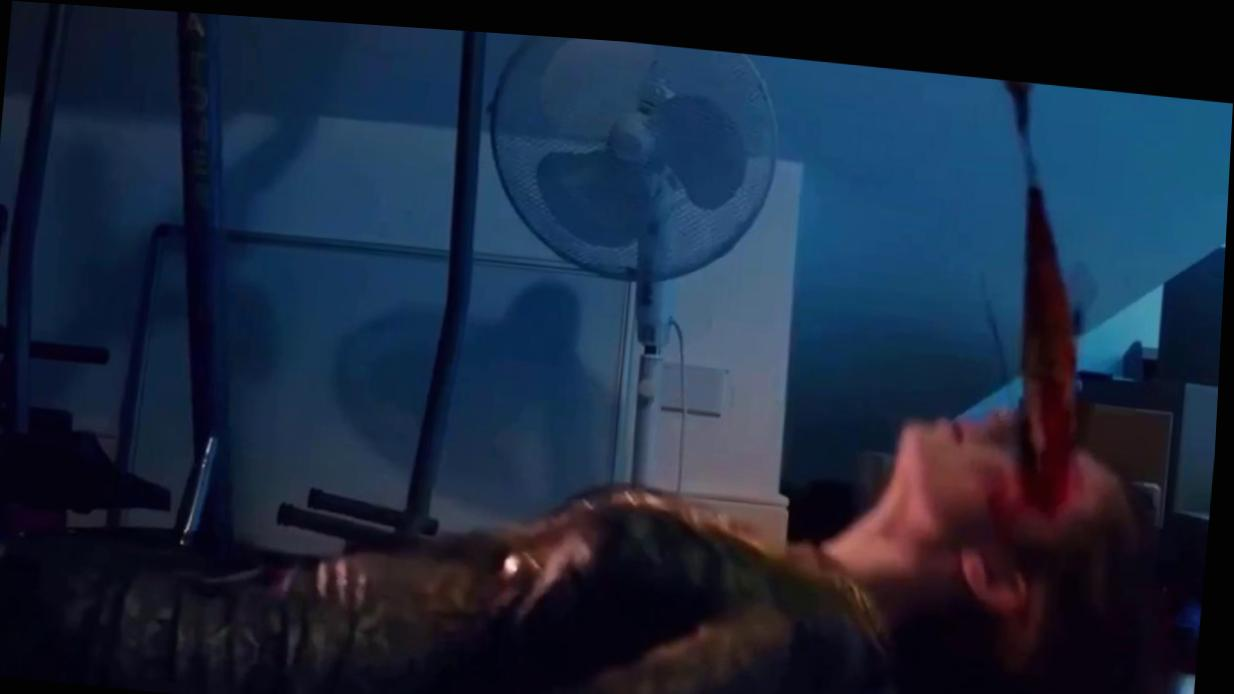Fire: (1027, 131, 1081, 503), (983, 449, 1023, 500)
